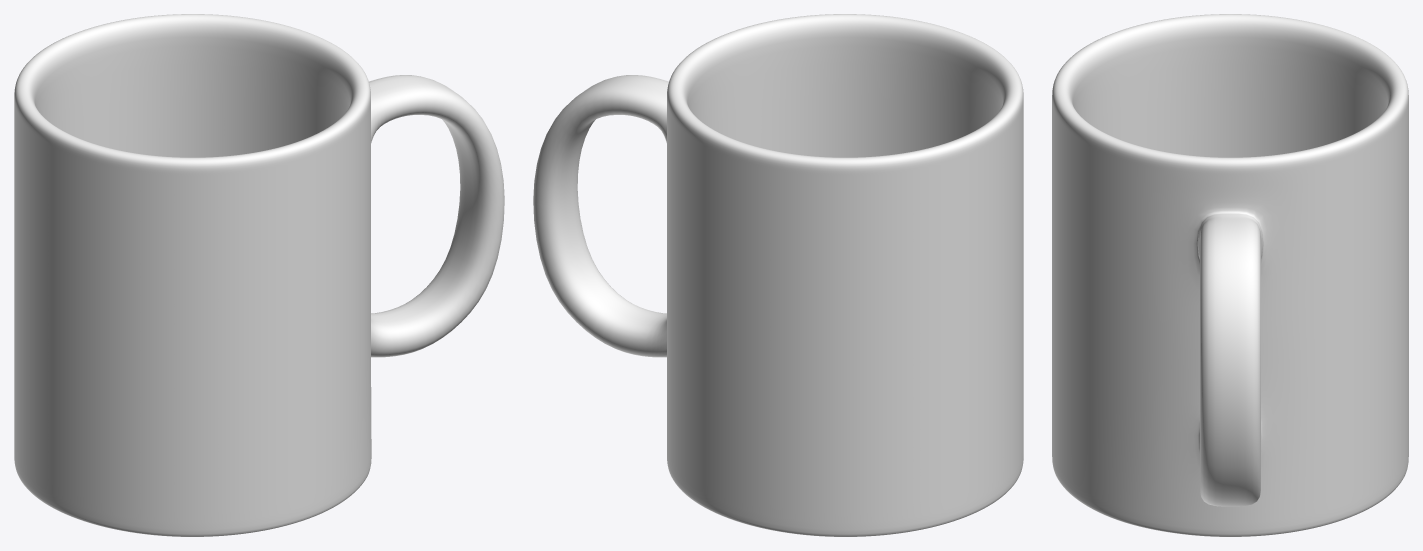
Rendered from mug.glb.
3 views of the same model, side by side, from view 1: azimuth 30°, elevation 25°; view 2: azimuth 150°, elevation 25°; view 3: azimuth 270°, elevation 25° (orthographic).
Visible parts, largest first — view 1: Mug; view 2: Mug; view 3: Mug.
Boxes of the visible parts, x1=… form: Mug: x1=14, y1=14, x2=504, y2=536; Mug: x1=533, y1=14, x2=1023, y2=536; Mug: x1=1052, y1=14, x2=1408, y2=536.
Size of the model in its own units: 0.1209 by 0.095 by 0.0816.
Materials: 1 (1 with a texture image).
